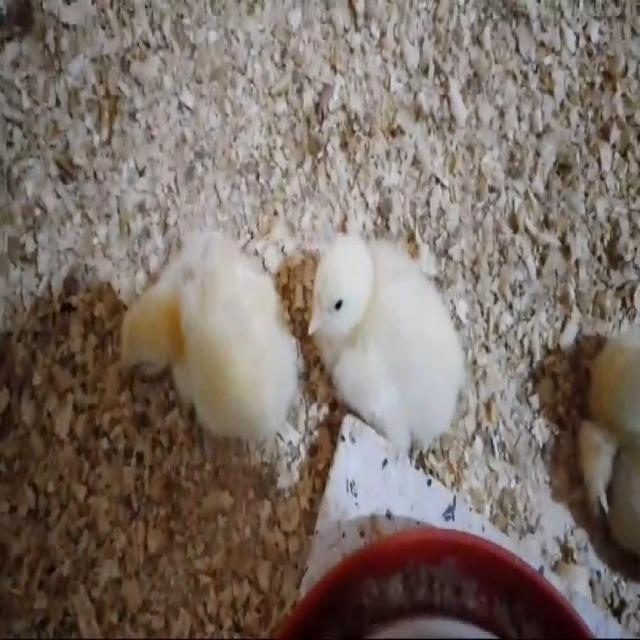abnormal chicken: (110, 218, 303, 457)
